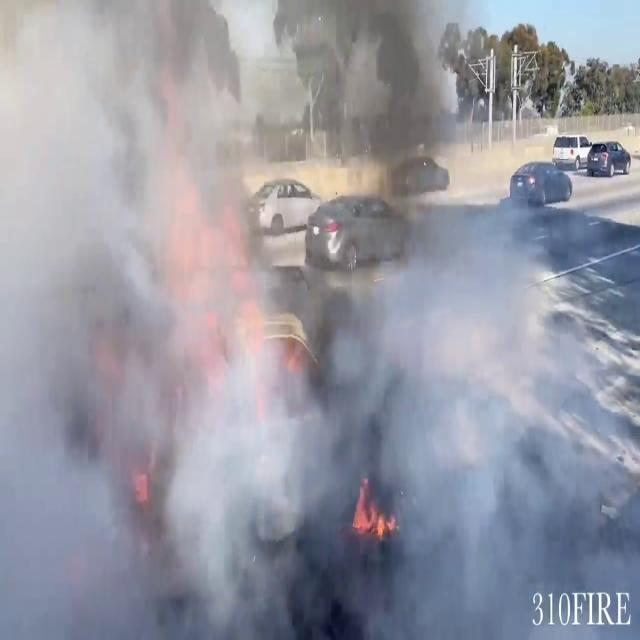Smoke: (1, 0, 588, 635)
